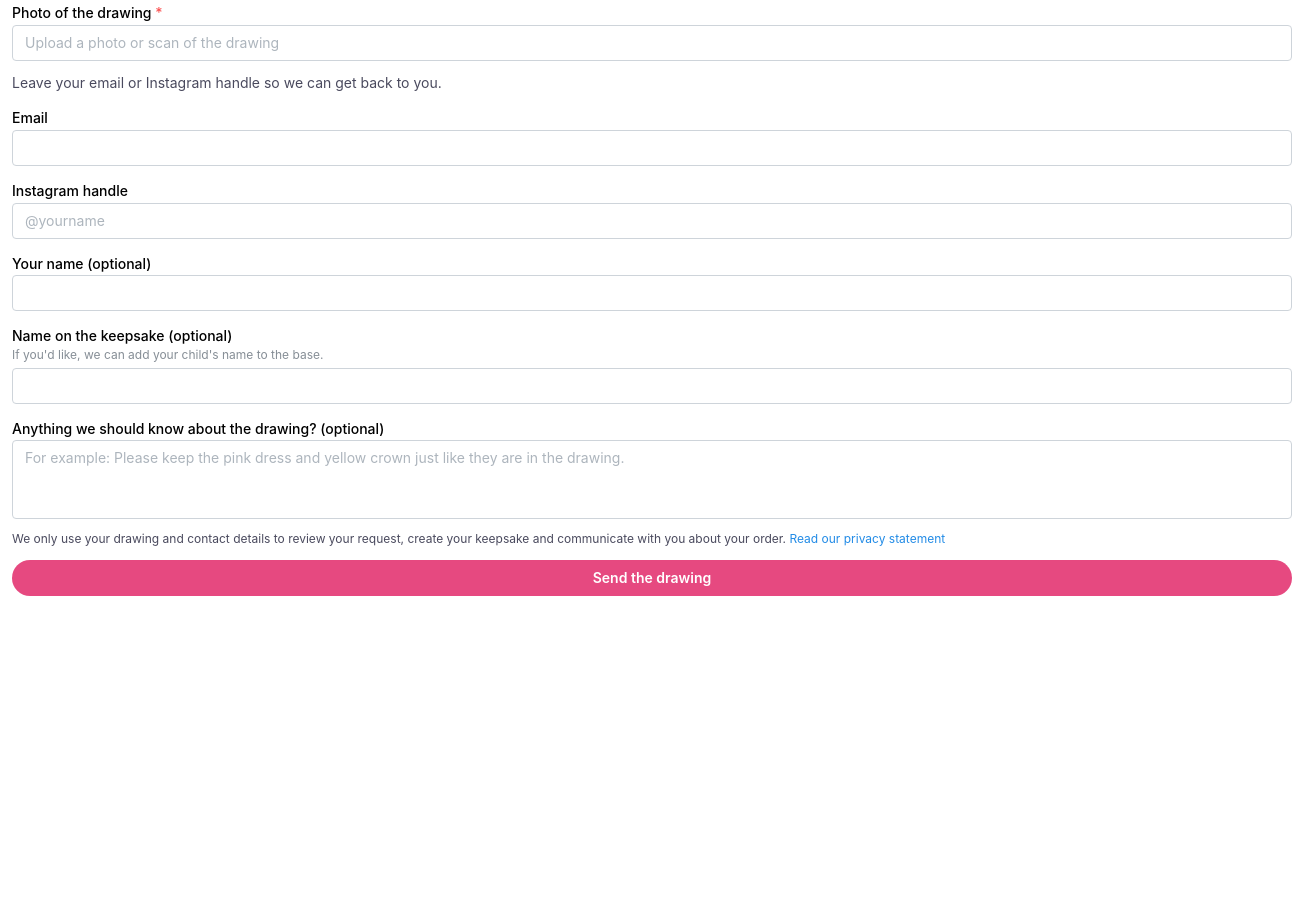
InquiryForm › shows validation errors for an invalid email and handle
Step 1. Type "not-an-email" into the field labelled "Email" → (652, 148), box [12,130,1292,166]
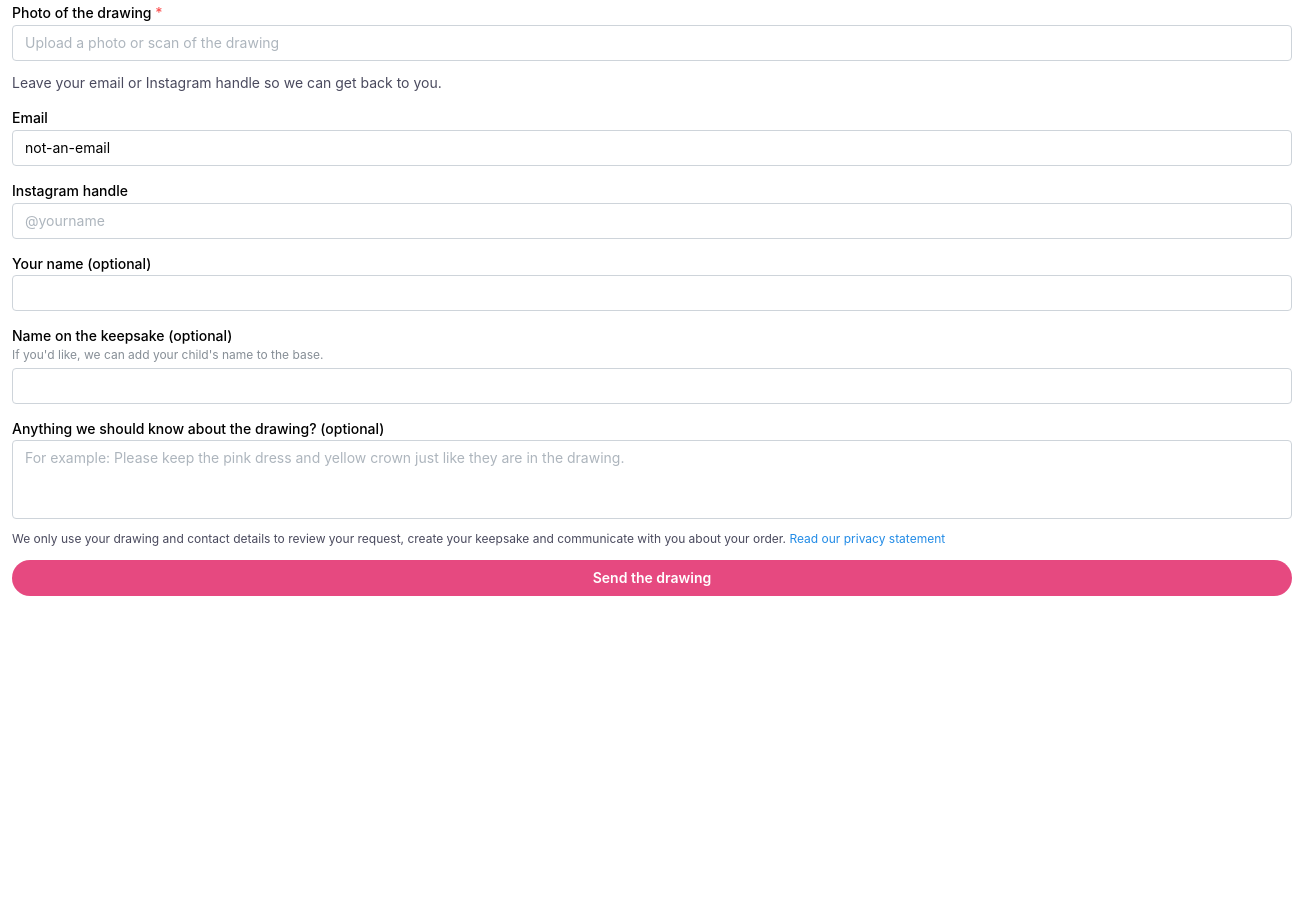
Step 2. Type "has space" into the field labelled "Instagram handle" → (652, 221), box [12,203,1292,239]
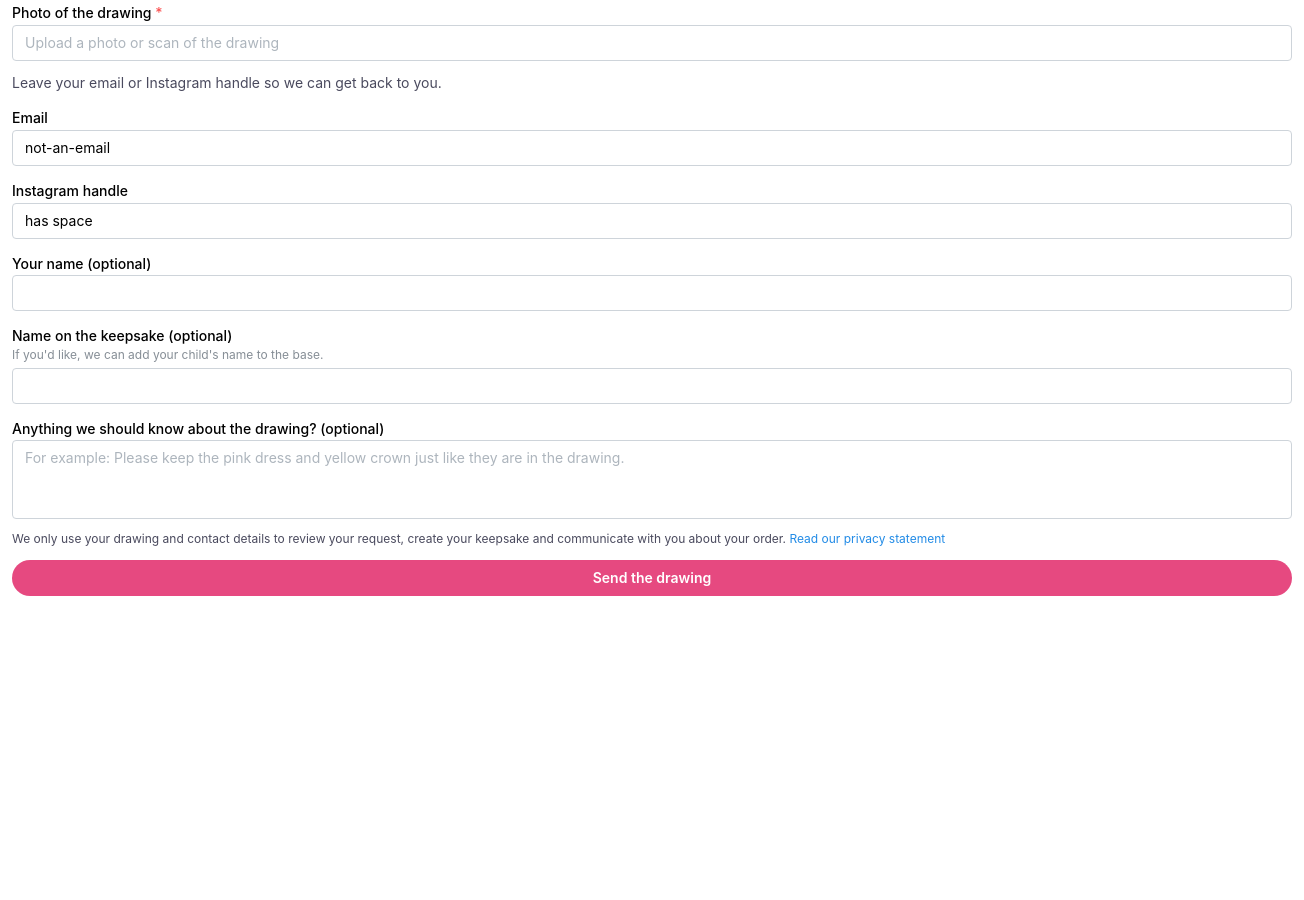
Step 3. Click the button "Send the drawing" → (652, 578), box [12,560,1292,596]
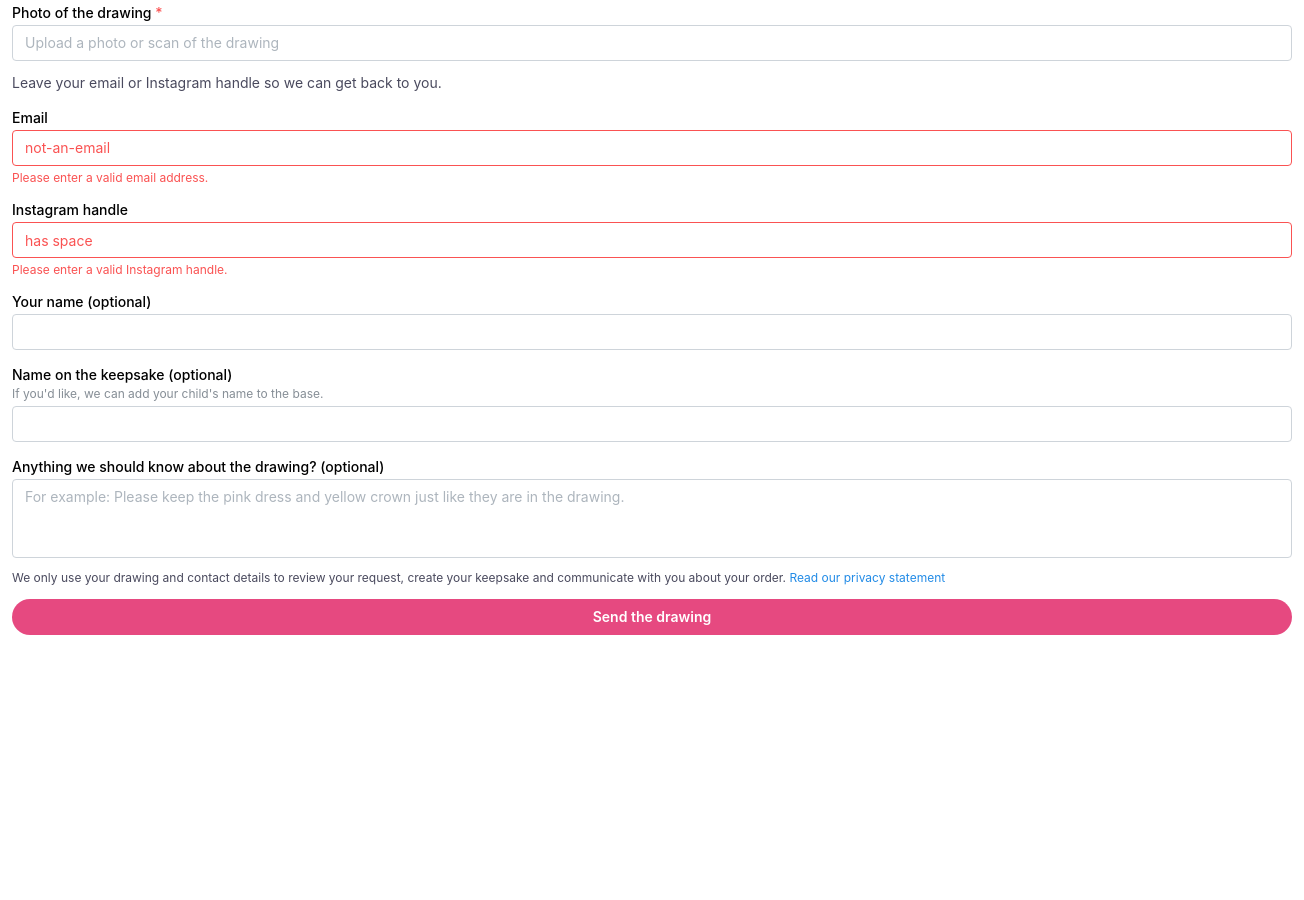
Check: the text "Please enter a valid email address." is shown, box [12,170,208,185]
Check: the text "Please enter a valid Instagram handle." is shown, box [12,262,228,277]
